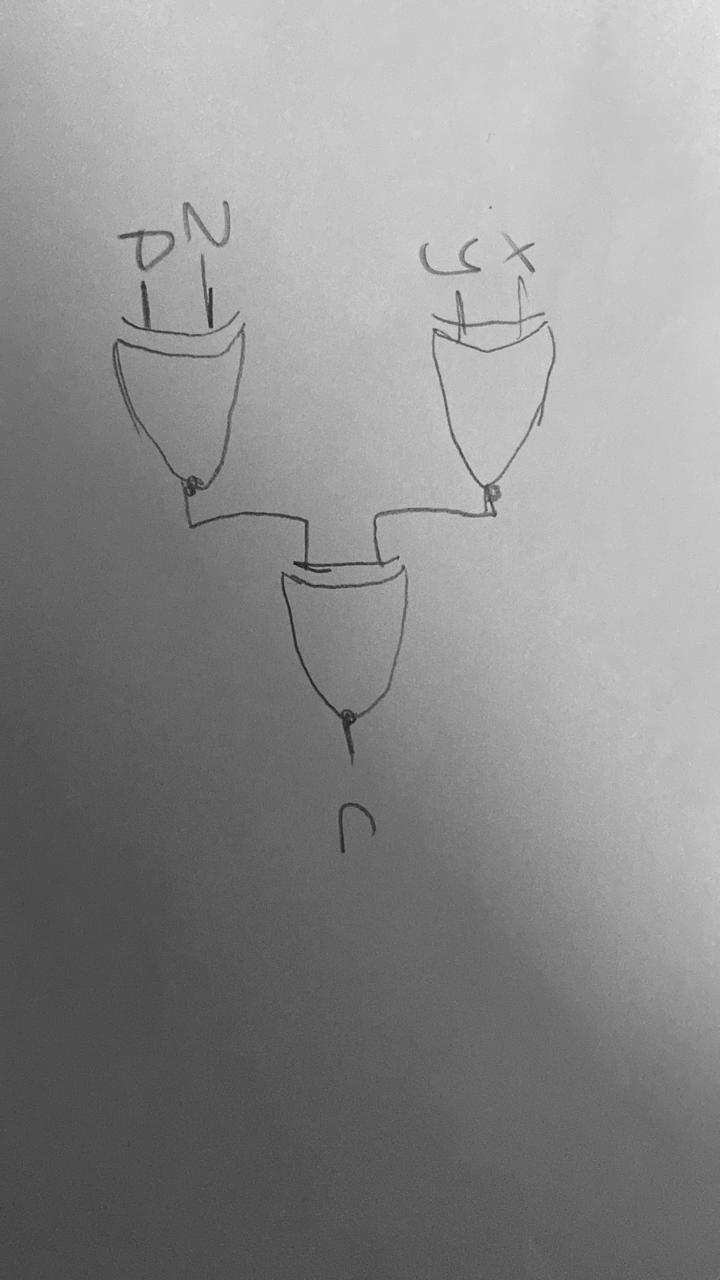XNOR: (410, 295, 614, 505), (100, 297, 290, 504), (262, 547, 458, 742)
